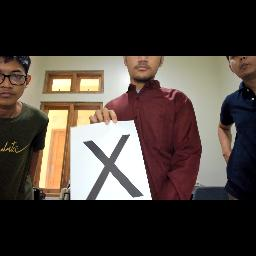x: (70, 128, 152, 200)
